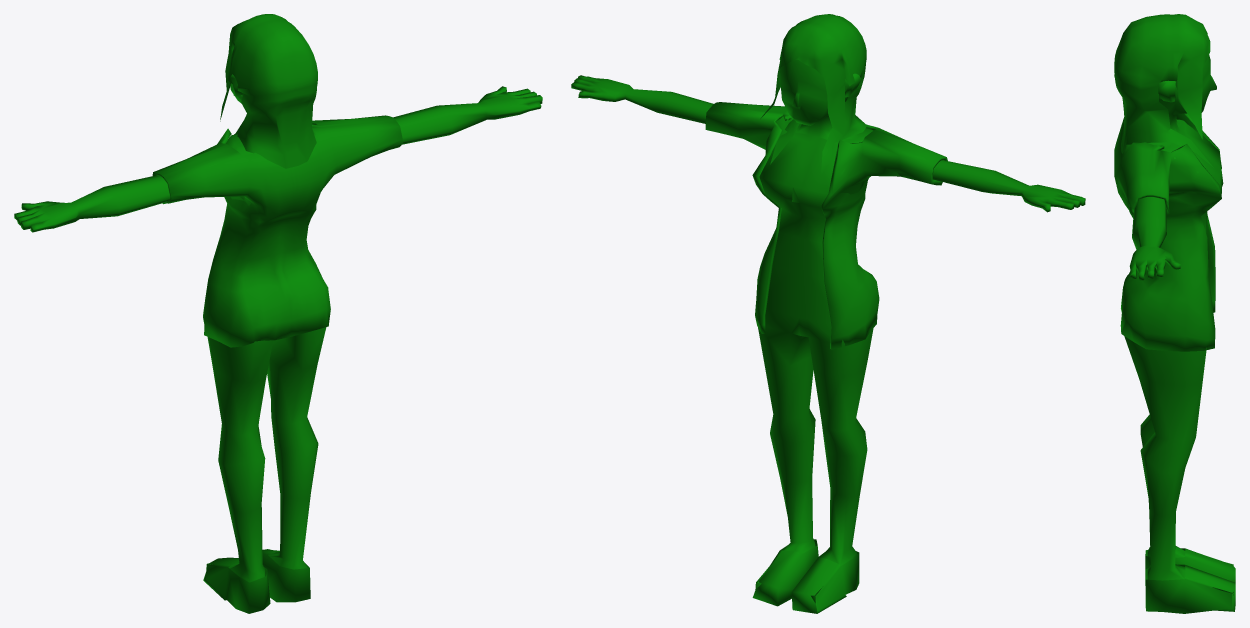
File: nanny.obj
3 renders of one model, left to right at view 1: azimuth 30°, elevation 25°; view 2: azimuth 150°, elevation 25°; view 3: azimuth 270°, elevation 25°, orthographic. The views are drawn at different scales.
Visible parts, largest first — view 1: Box001; view 2: Box001; view 3: Box001.
Part boxes in pixels (x1,y1,x2,y2): Box001: (14,14,542,613); Box001: (571,14,1085,613); Box001: (1114,14,1235,613).
Bounding box in the file's own units: 188 × 200 × 38.07.
